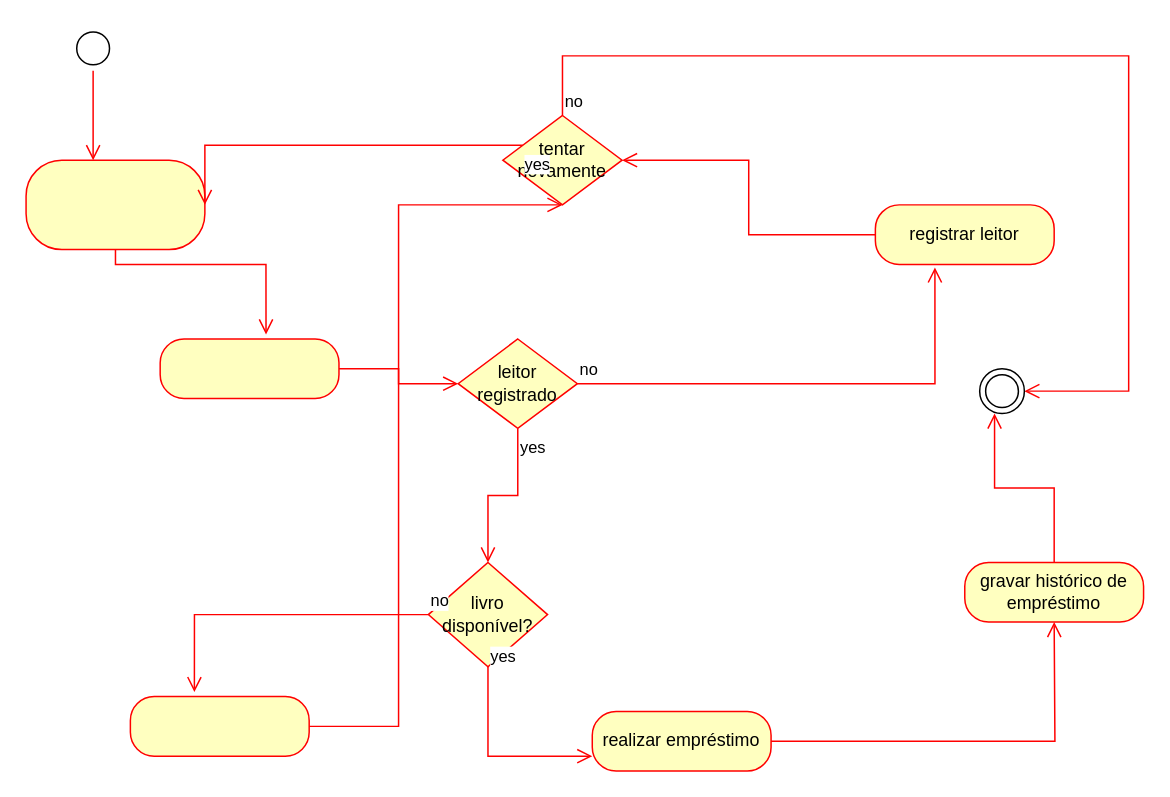
Image size: 1170x797. Some labels were removed from this diagram. Each missing label, with the centre of its shape:
"escolher opção de empréstimo no sistema" belongs at point (115, 204).
"inserir ISBN do livro e ID do leitor" belongs at point (249, 368).
"retornar mensagem" belongs at point (219, 725).
